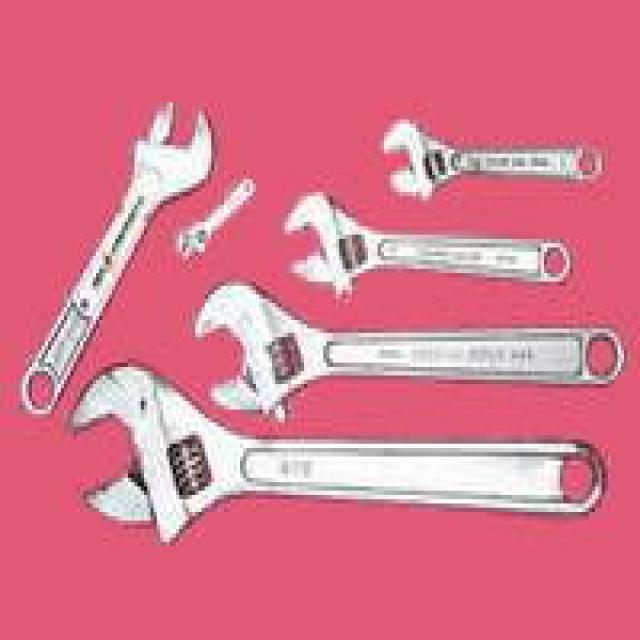wrench: (66, 361, 618, 566), (192, 281, 640, 423), (65, 62, 217, 383), (272, 179, 606, 310), (368, 96, 614, 206)
